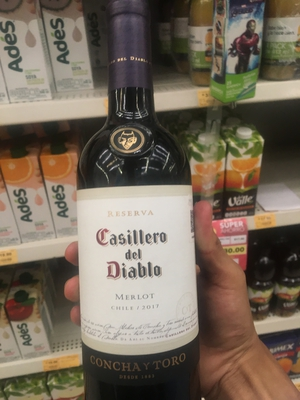casillero del diablo merlot: (77, 17, 213, 400)
